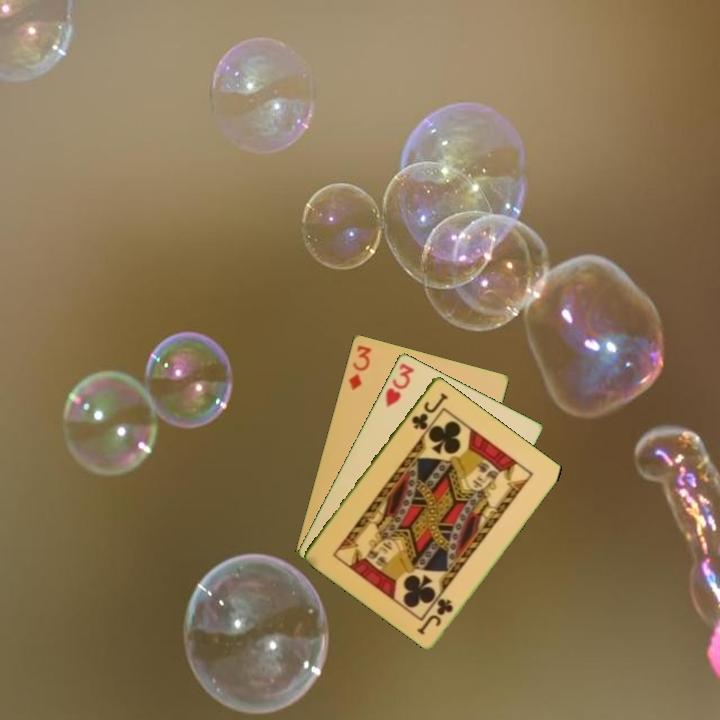3d: (345, 341, 374, 393)
3h: (382, 359, 417, 410)
Jc: (414, 594, 456, 638), (408, 389, 450, 432)
